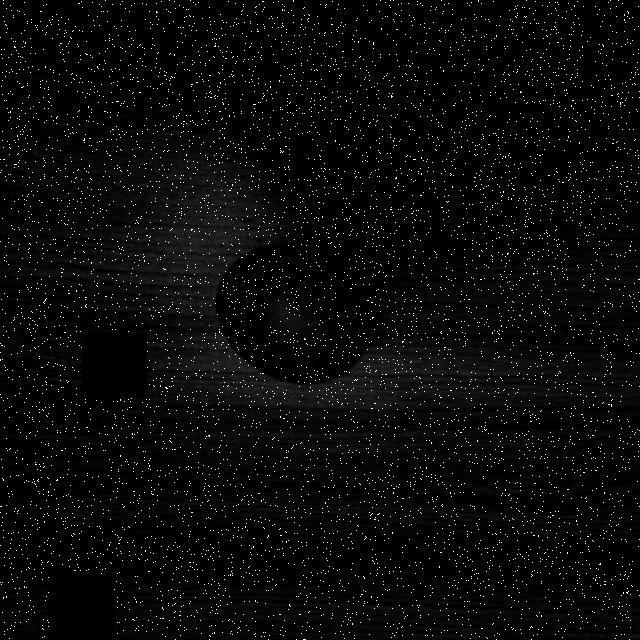egg: (207, 240, 380, 389)
